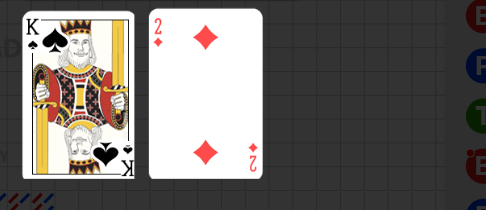2D: (247, 141, 260, 174)
KS: (24, 17, 41, 54)
